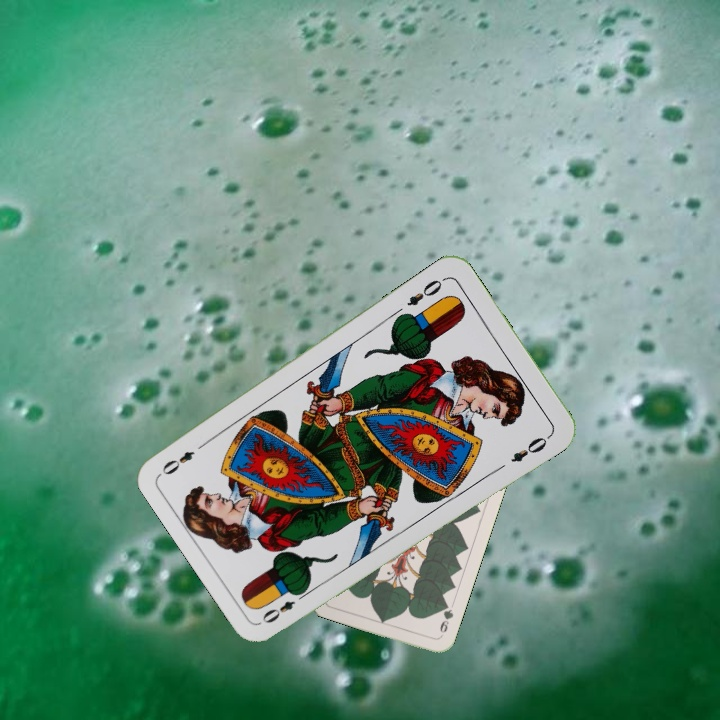EO: (258, 586, 311, 626), (403, 273, 449, 309)
G9: (436, 599, 456, 640)
